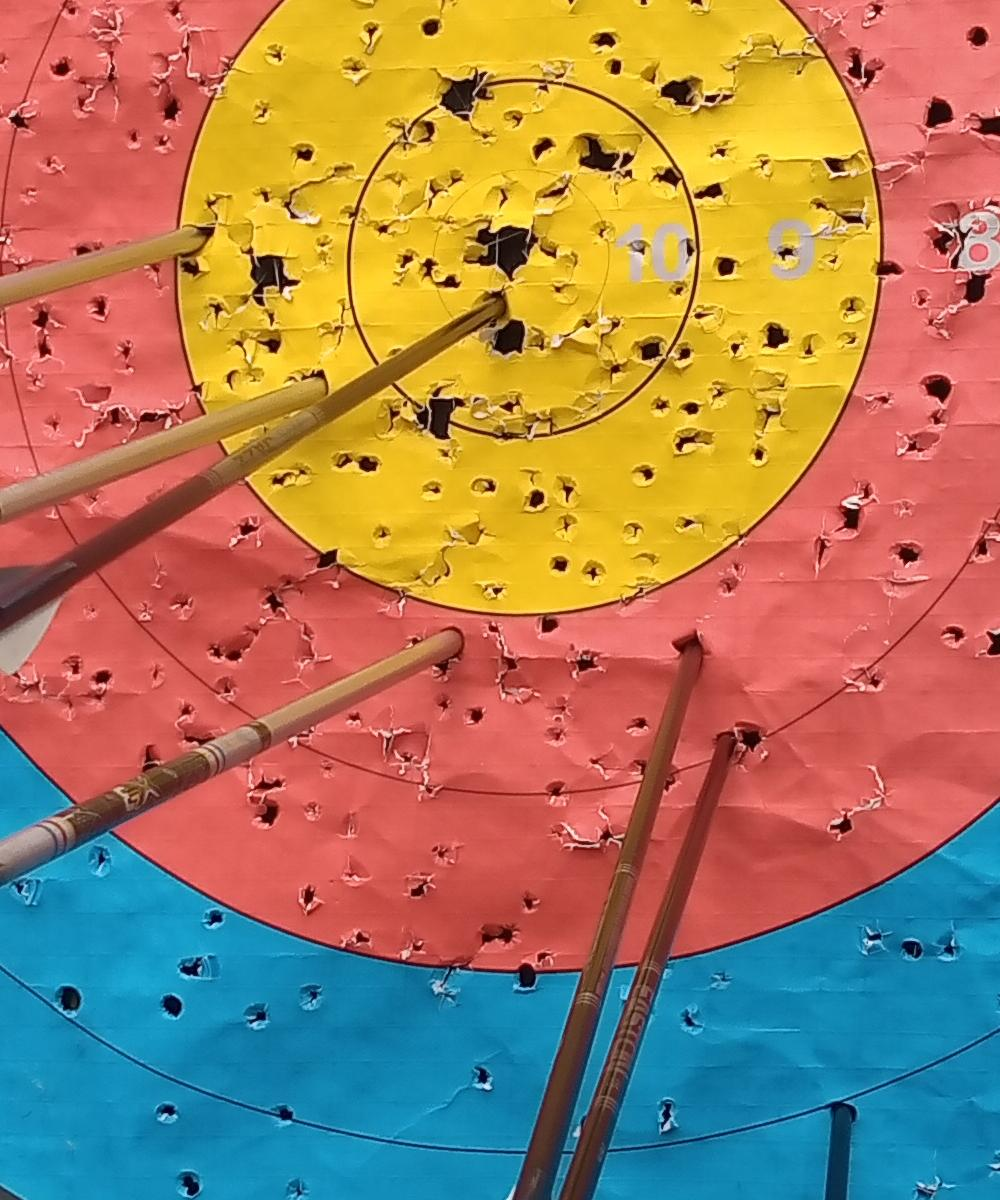10-Ring: (303, 37, 749, 486)
8-Ring: (3, 0, 1000, 798)
9-Ring: (179, 0, 883, 614)
Arrow: (0, 234, 507, 678), (0, 613, 465, 886), (506, 641, 719, 1200), (557, 729, 736, 1200)
